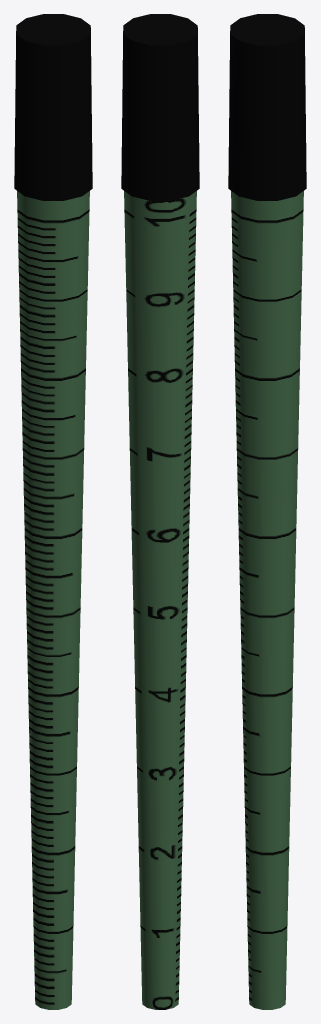
File: _Pippete.fbx
3 views of the same model, side by side, from view 1: azimuth 30°, elevation 25°; view 2: azimuth 210°, elevation 25°; view 3: azimuth 330°, elevation 25° (orthographic).
Parts seen in each view (by area): view 1: Pippete; view 2: Pippete; view 3: Pippete.
Boxes of the visible parts, left/top/right/bottom form: Pippete: left=14, top=14, right=92, bottom=1009; Pippete: left=121, top=14, right=199, bottom=1009; Pippete: left=228, top=14, right=306, bottom=1009.
Bounding box in the file's own units: 13.82 × 190 × 13.82.
